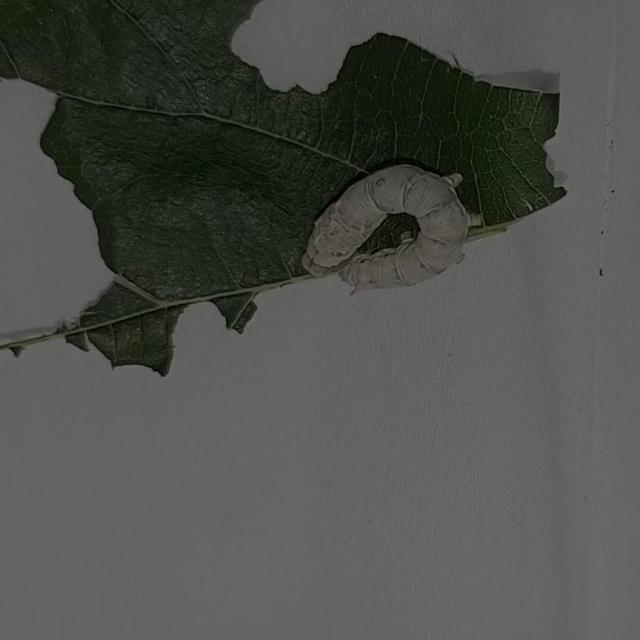Healthy: (298, 158, 488, 299)
